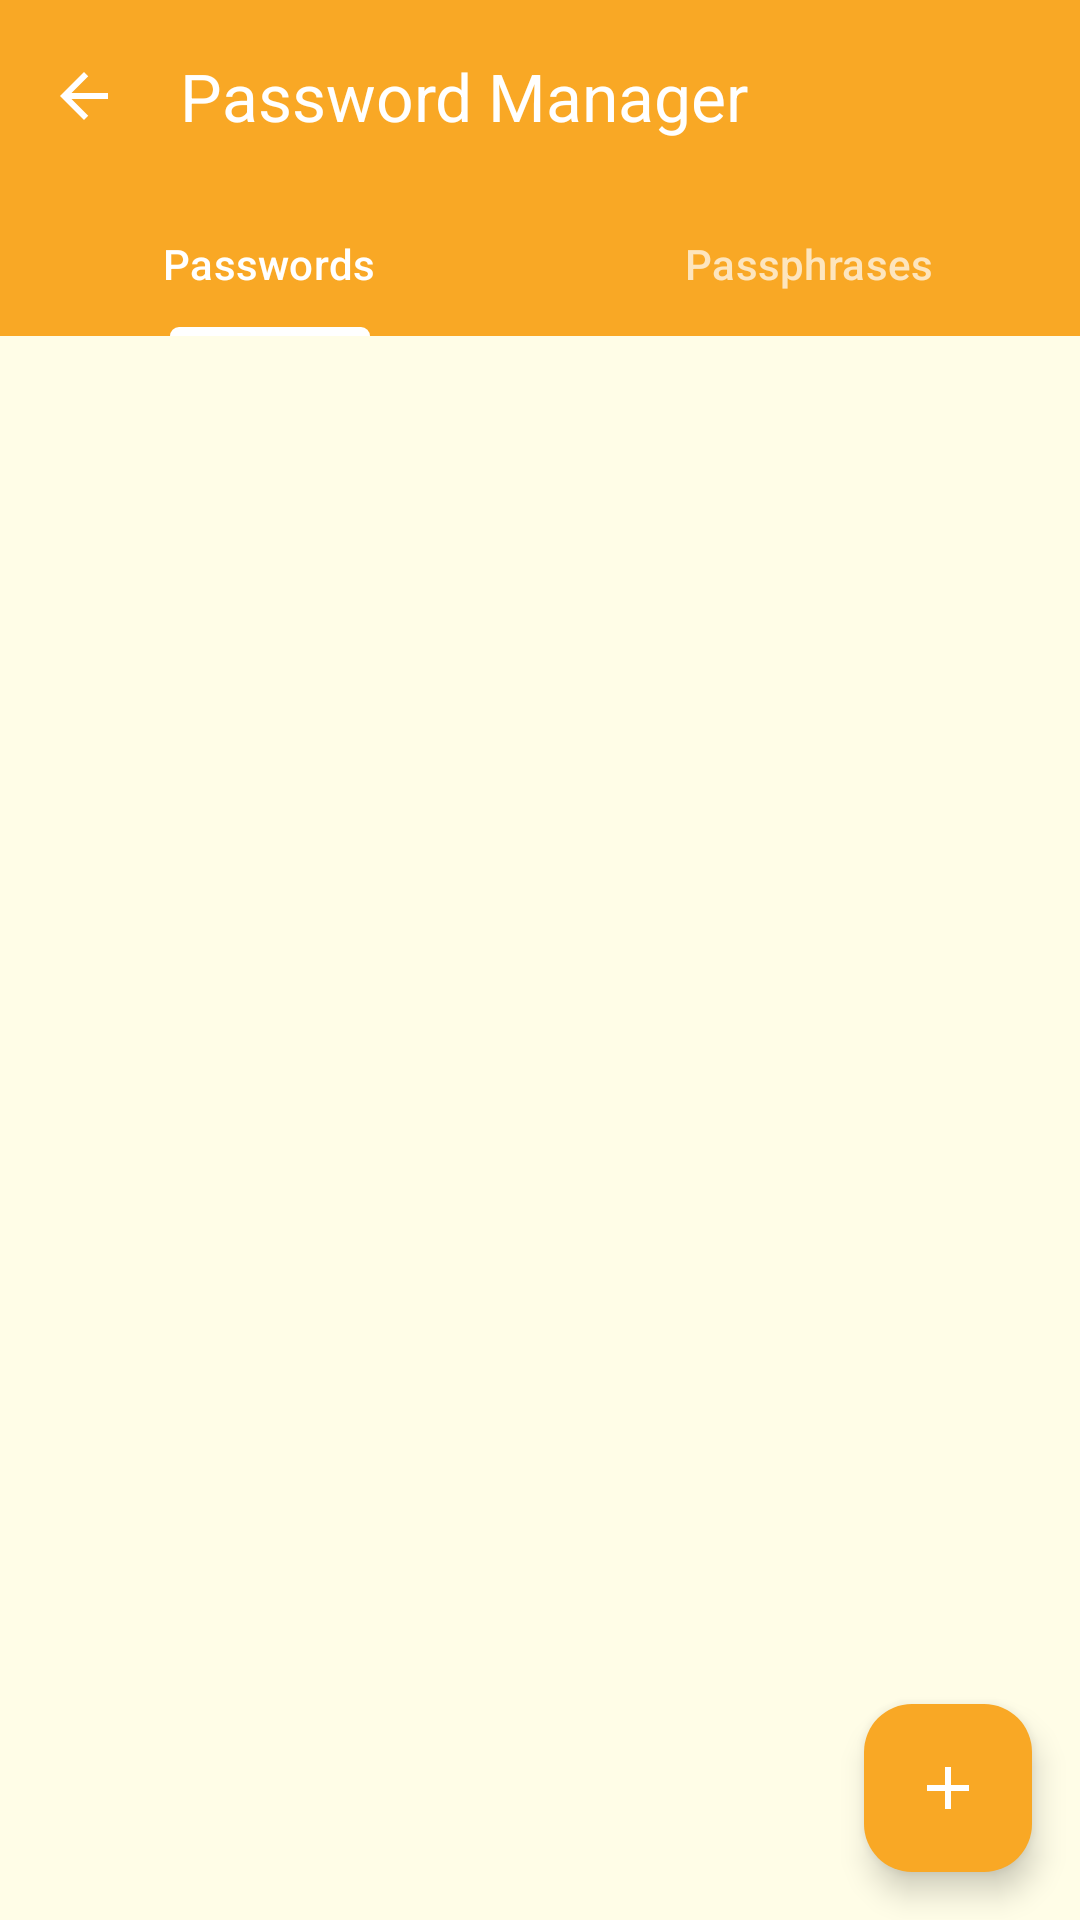

Icon bounding boxes for this 1080×1920 phone screenshot, format (x1, y1, x2, y2):
Add entry: (864, 1704, 1032, 1872)
